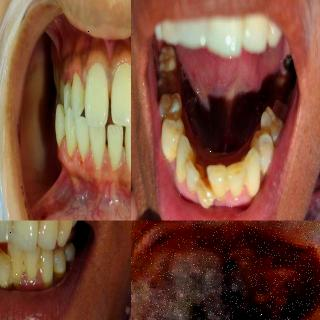Gum Swelling: (19, 273, 43, 287)
cavities: (131, 220, 320, 320)
maligned: (195, 177, 219, 211), (0, 250, 13, 294)
plaque: (230, 172, 250, 207), (213, 176, 231, 202), (30, 250, 44, 276), (17, 256, 30, 280)
stains: (50, 254, 64, 288), (166, 142, 182, 170), (249, 166, 251, 168)
